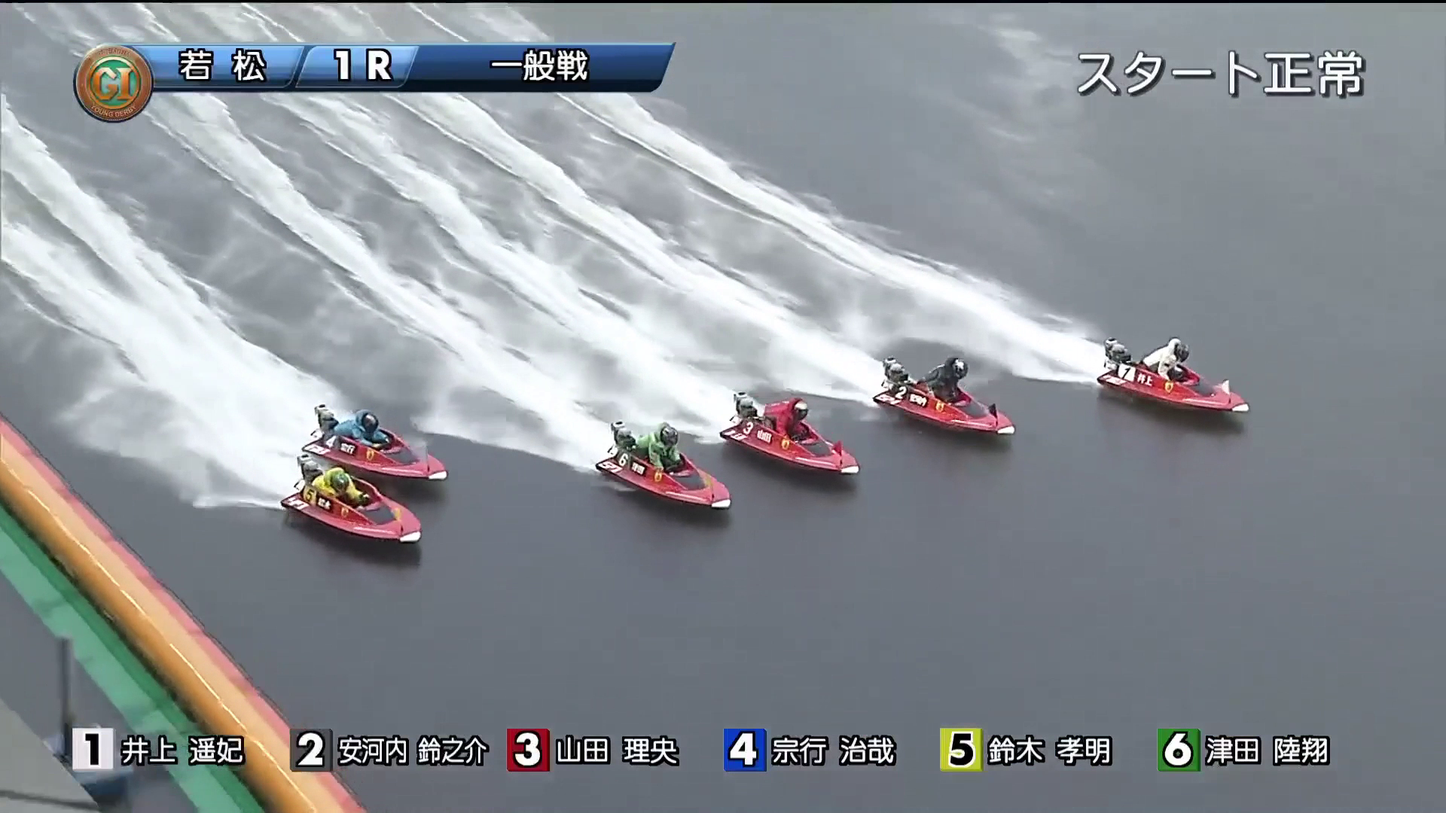１号艇: (1112, 349, 1241, 401)
２号艇: (890, 366, 1012, 423)
３号艇: (750, 425, 883, 467)
４号艇: (621, 452, 739, 514)
５号艇: (332, 429, 456, 484)
６号艇: (336, 511, 435, 568)
